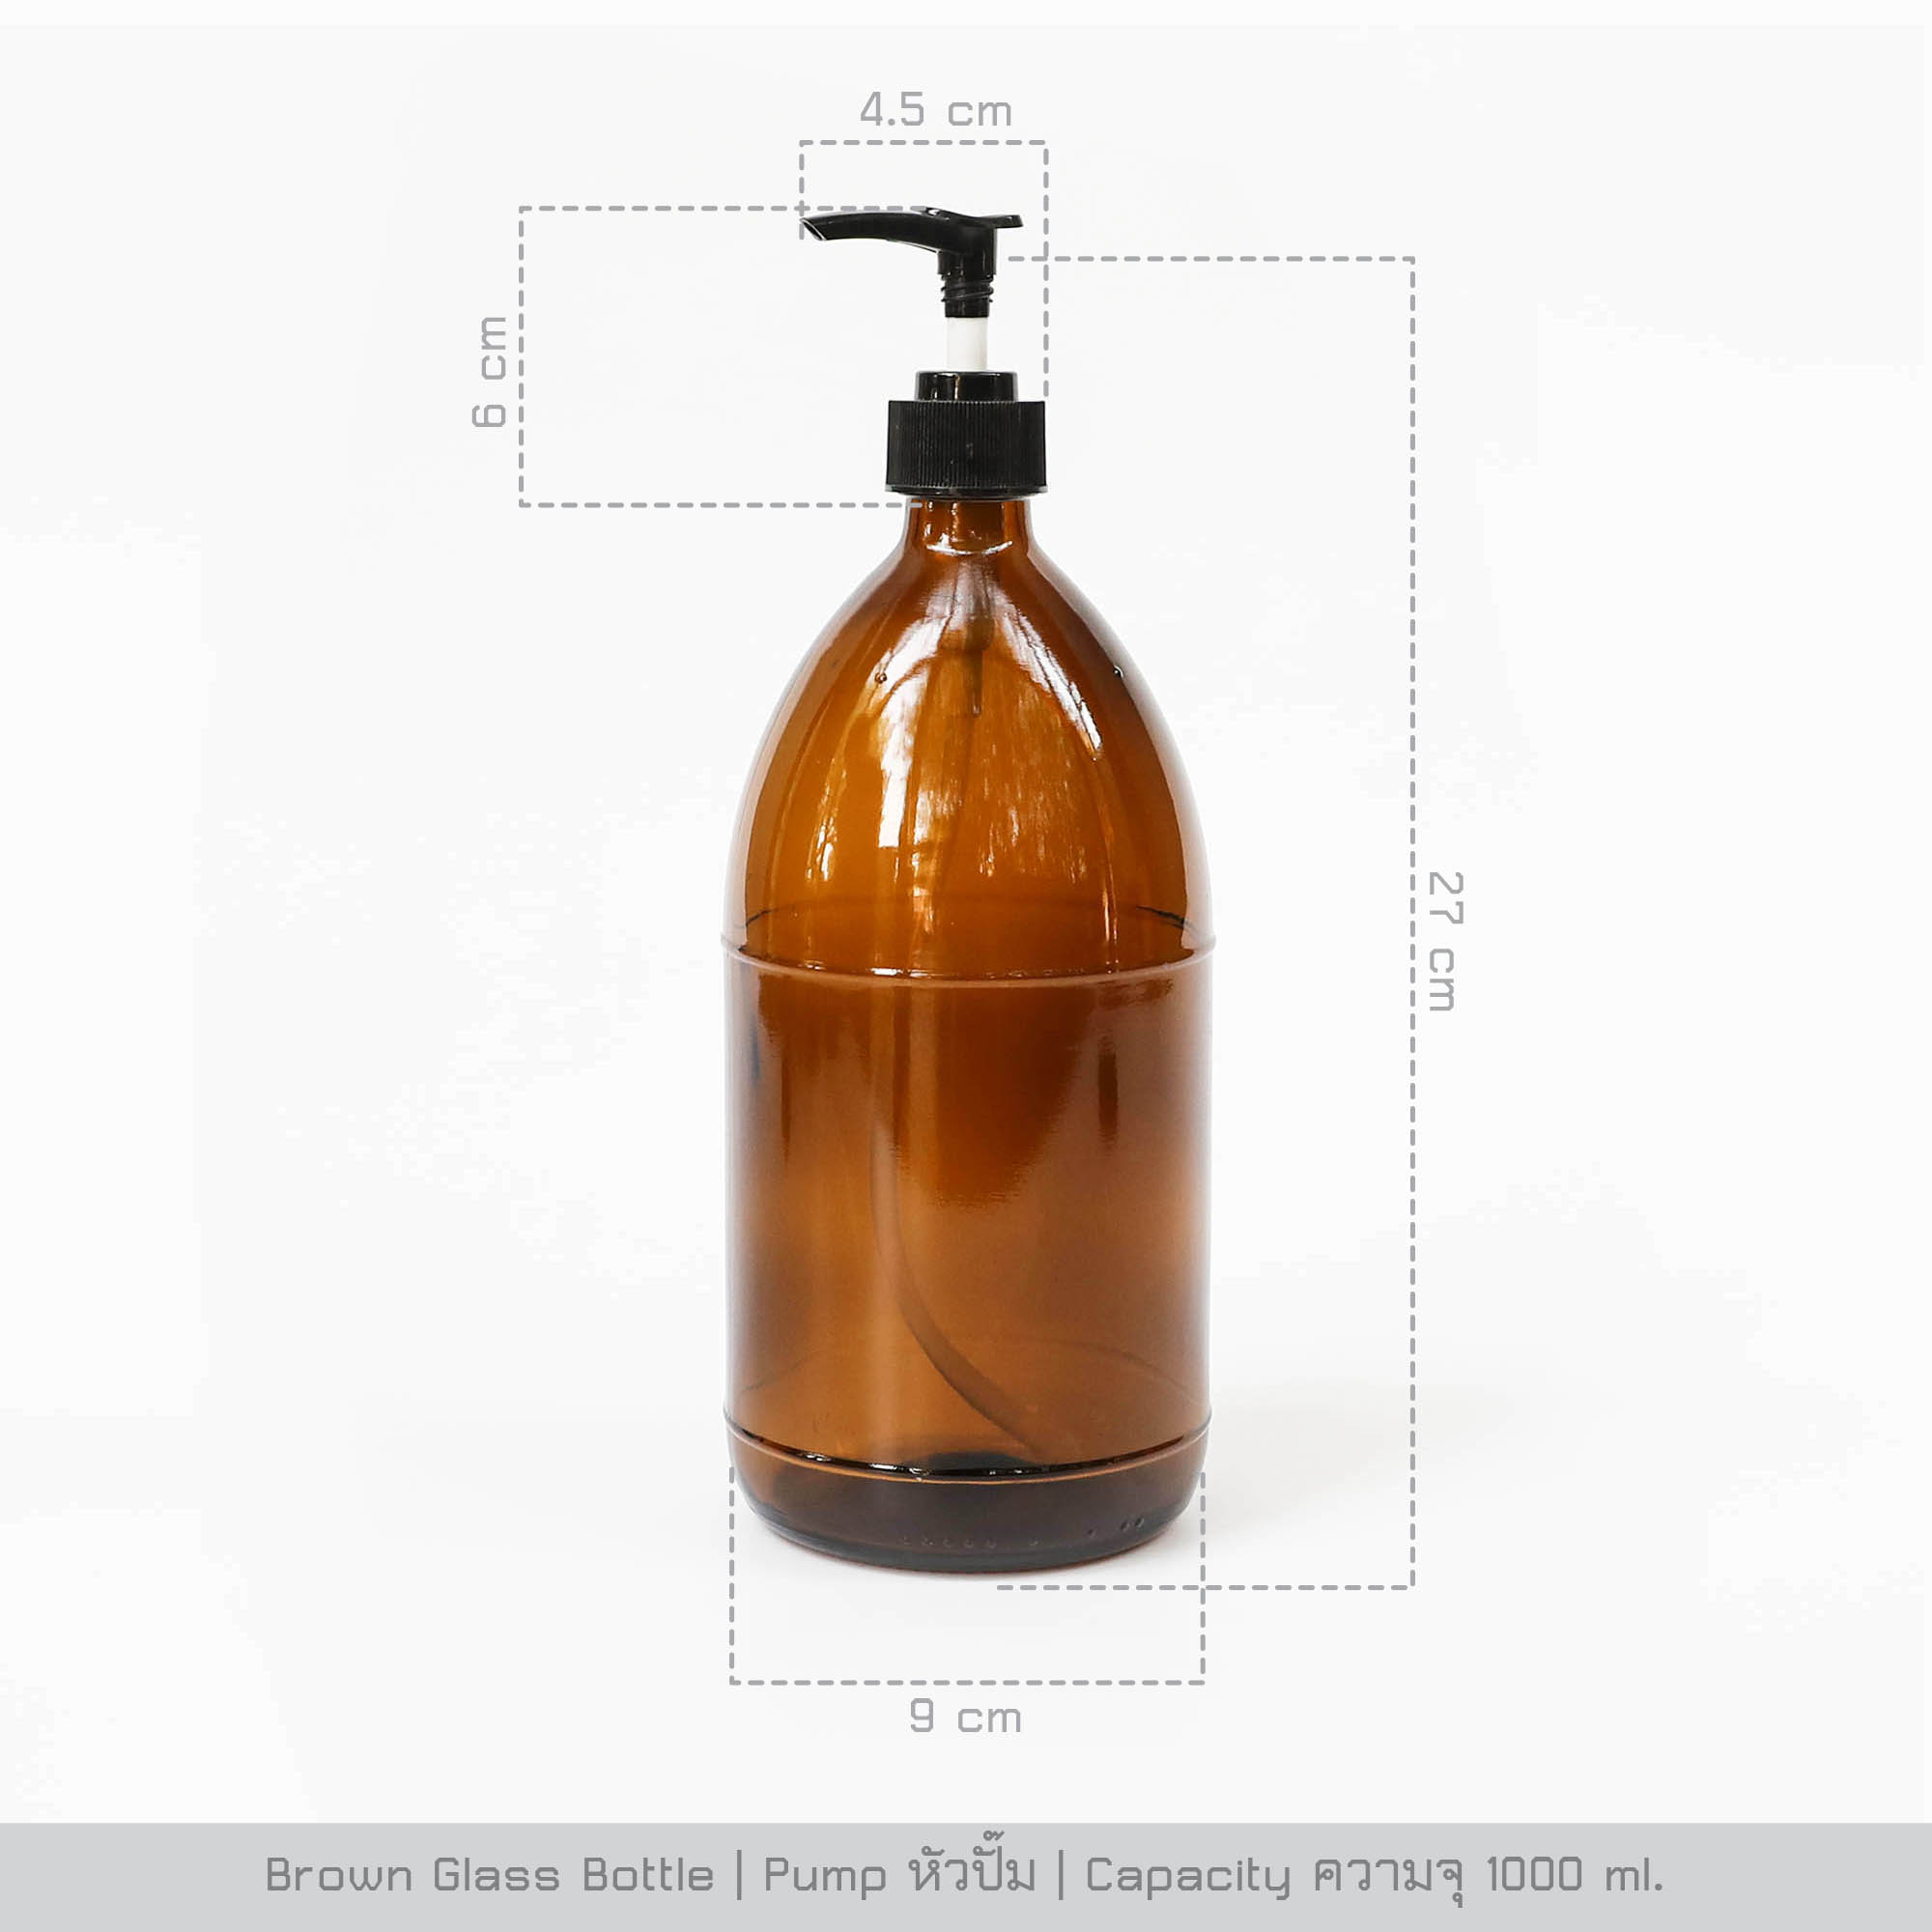glass_bottle: (701, 182, 1242, 1592)
